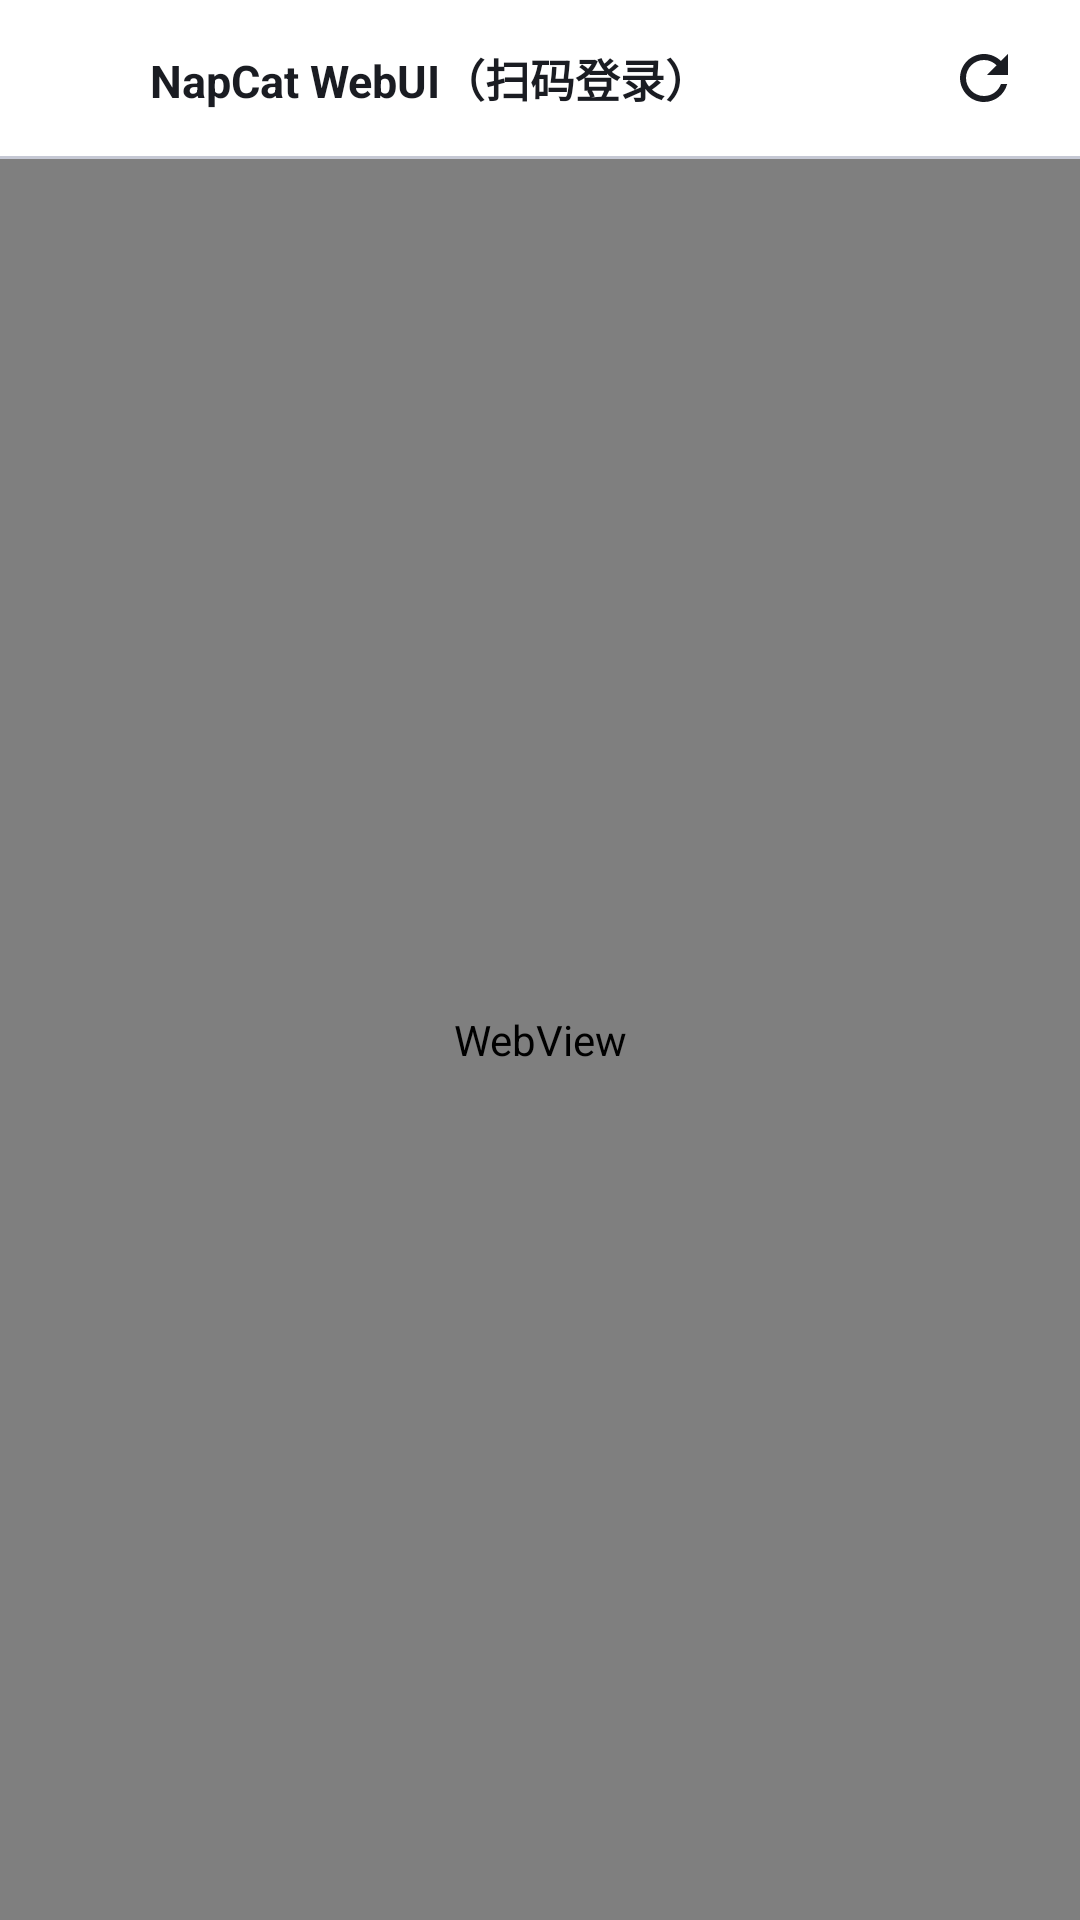

Where to tap for icons on this 1080 x 1920 app screen, as [x,y]:
刷新: [984,78]
